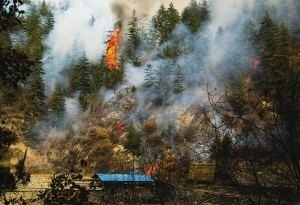fire: (103, 23, 122, 69), (142, 159, 160, 175), (112, 118, 127, 134)
